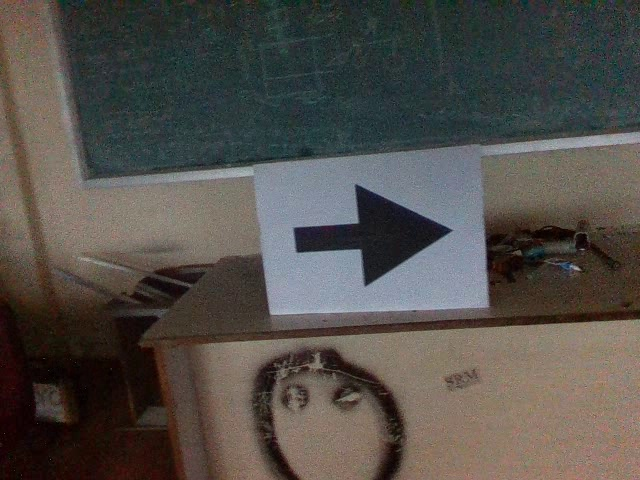Right: (288, 179, 456, 290)
